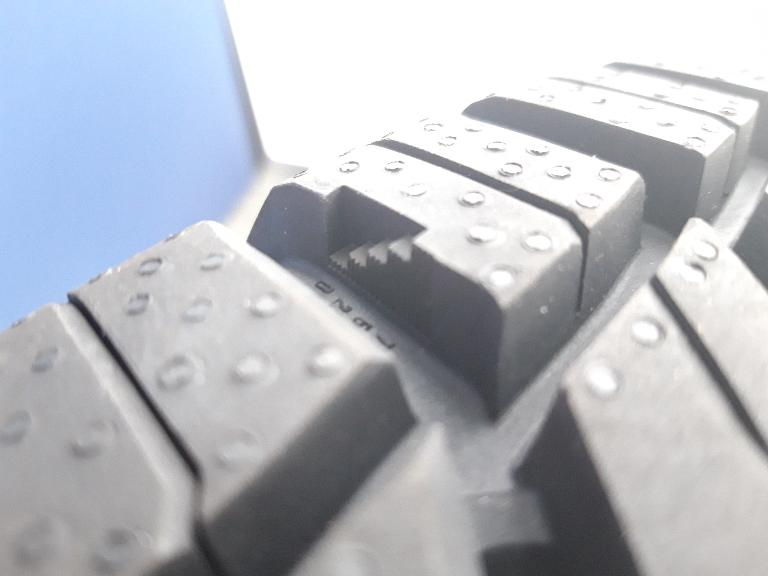temoin:100: (324, 184, 440, 348)
